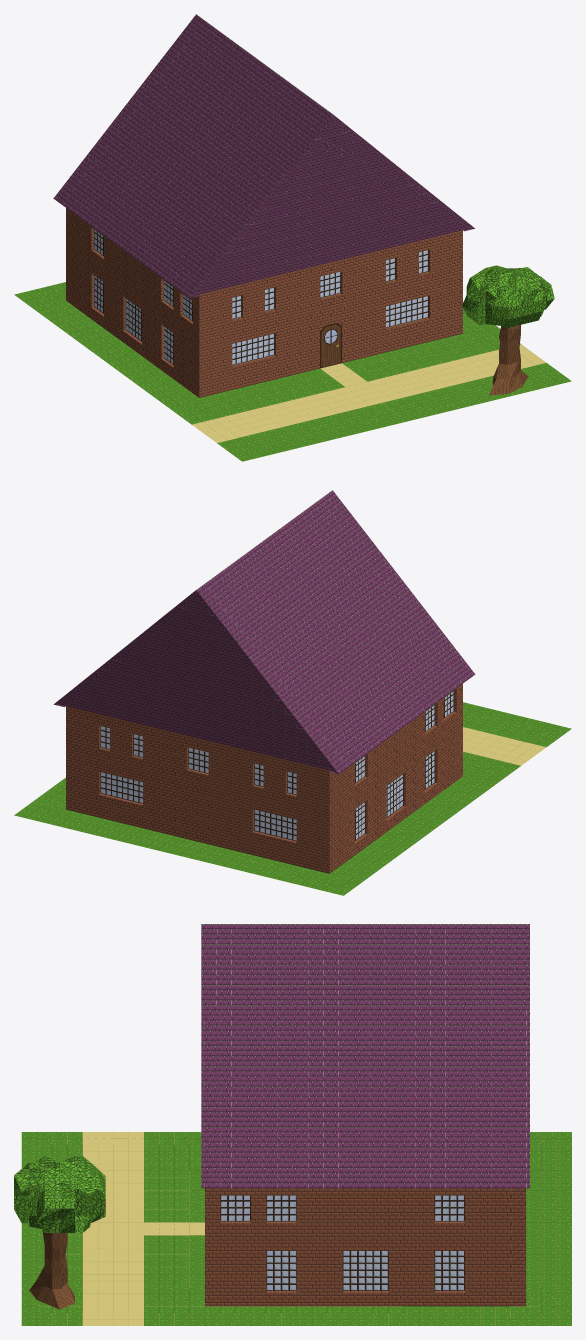
The model's file is Living World Test.obj.
3 views of the same model, one above another, from view 1: azimuth 30°, elevation 25°; view 2: azimuth 150°, elevation 25°; view 3: azimuth 270°, elevation 25° (orthographic). The views are drawn at different scales.
Visible parts, largest first — view 1: Default; view 2: Default; view 3: Default.
Boxes of the visible parts, x1,y1,x2,y2 form: Default: [14, 14, 571, 461]; Default: [14, 490, 571, 895]; Default: [14, 924, 571, 1325].
Bounding box in the file's own units: 30 × 22 × 36.5.
1 material, 1 textured.
